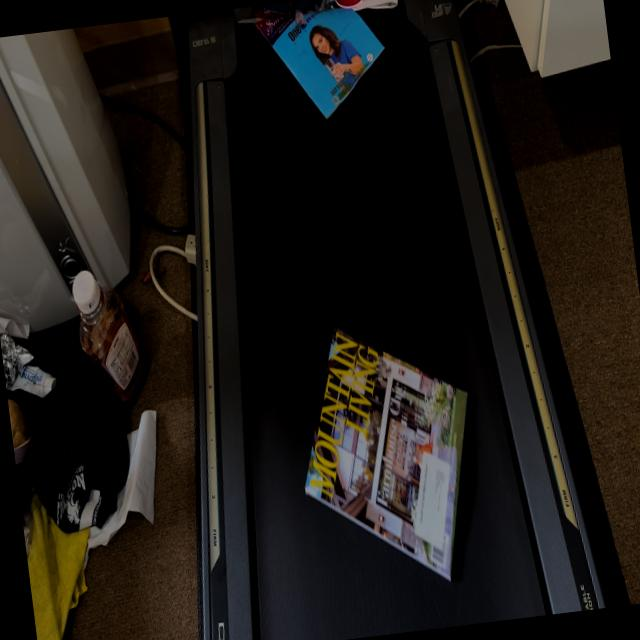Trash: (278, 298, 502, 612), (264, 8, 397, 118)
